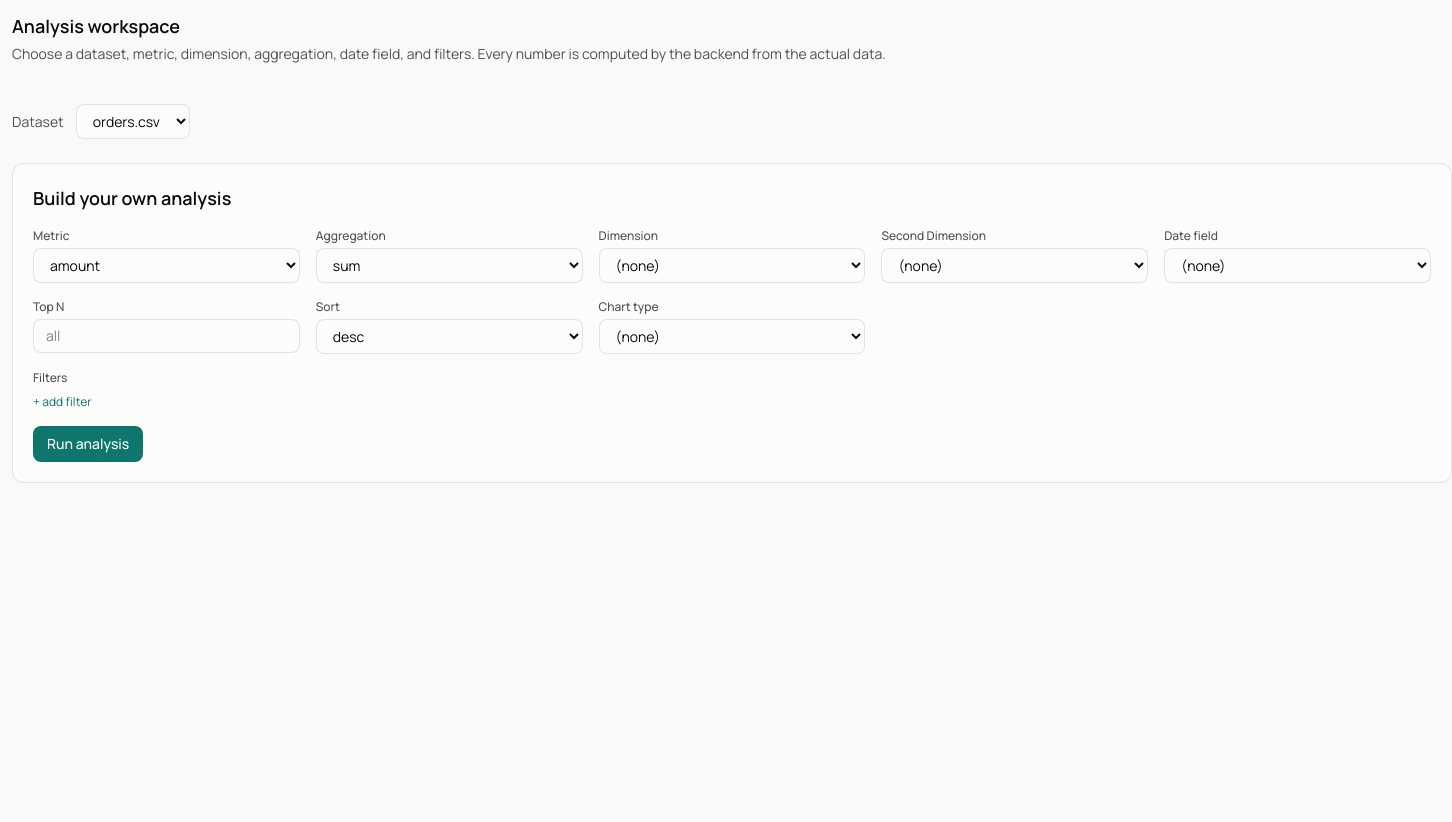
Scenario: AnalysisWorkspace › runs an analysis and renders a scalar KPI card result
What coordinates should you click on to do the following:
click the button "Run analysis"
I would click on:
 (88, 444)
Its box is [33,426,143,462].
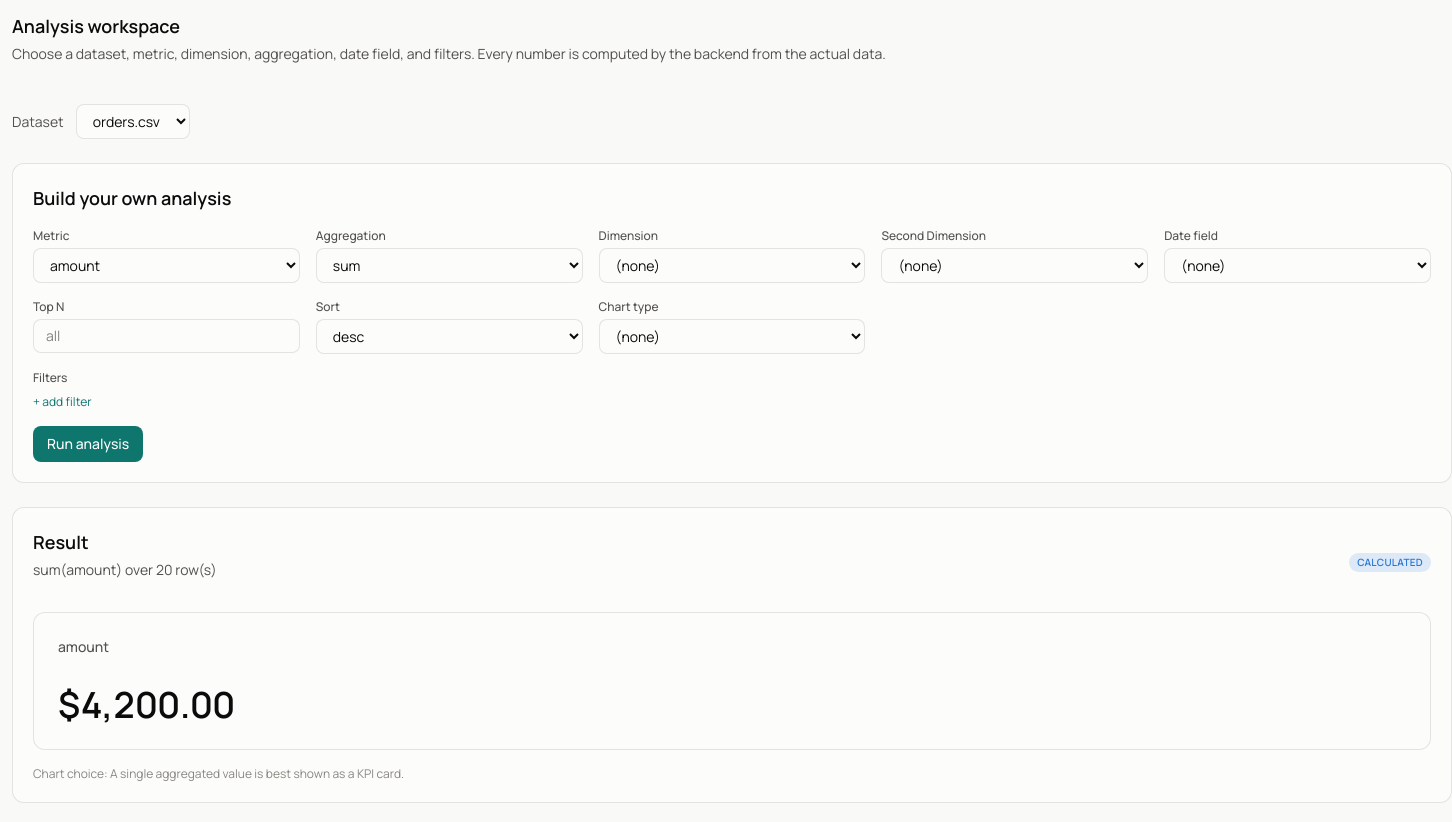
Check: the button "$4,200.00" is shown, box [58,685,1406,725]
Check: the text "CALCULATED" is shown, box [1349,552,1431,572]
